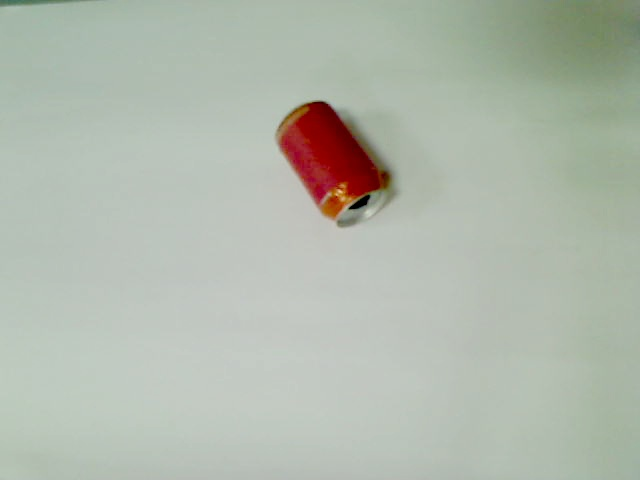can: (270, 99, 393, 231)
